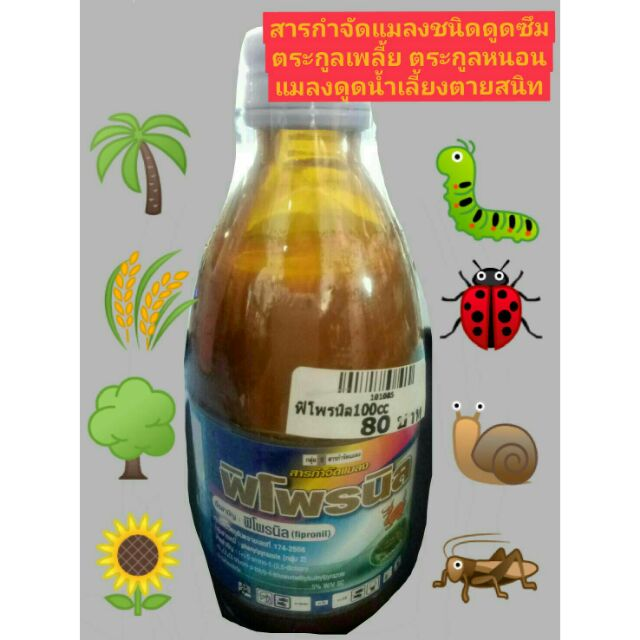Insecticide: (178, 19, 434, 631)
